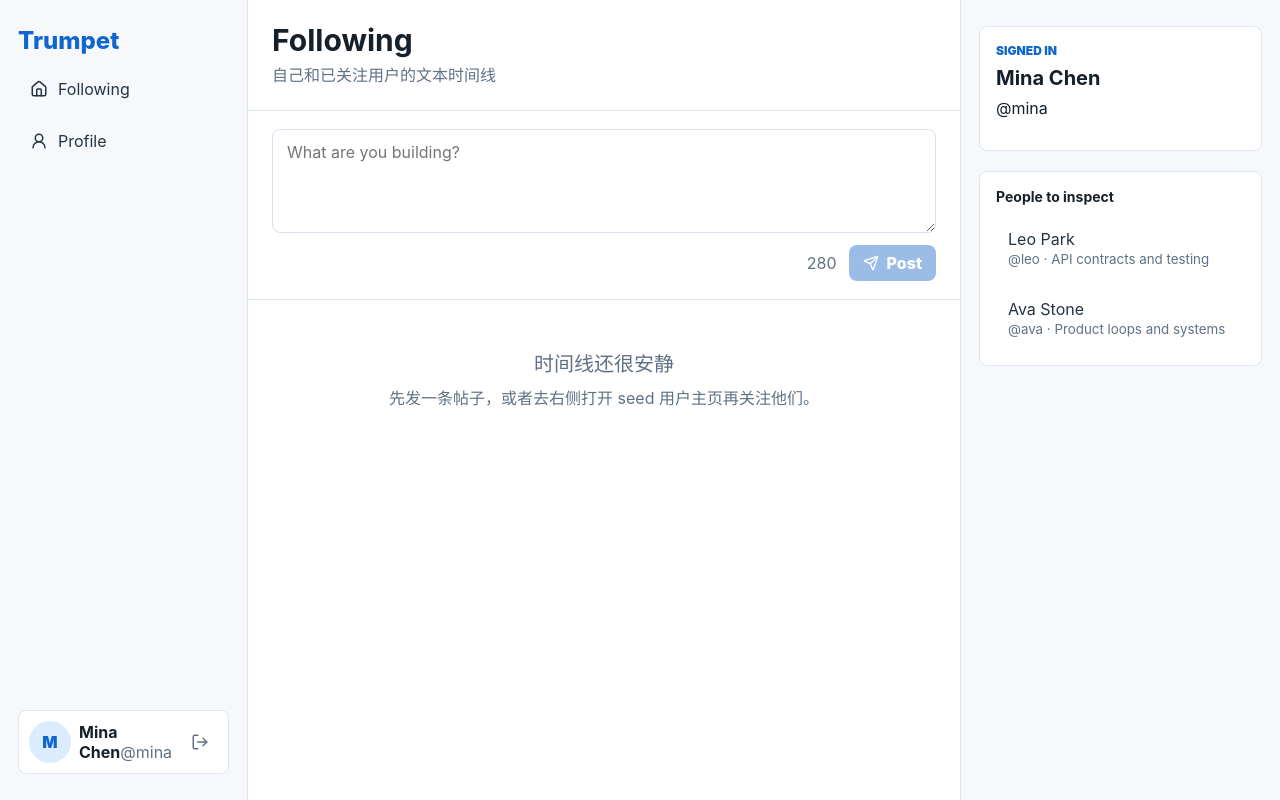
Test: App timeline interactions › surfaces an error banner with the fallback message when a post fails
In the text box with placeholder "What are you building?": (604, 181) [272,129,936,233], type "This post will fail"
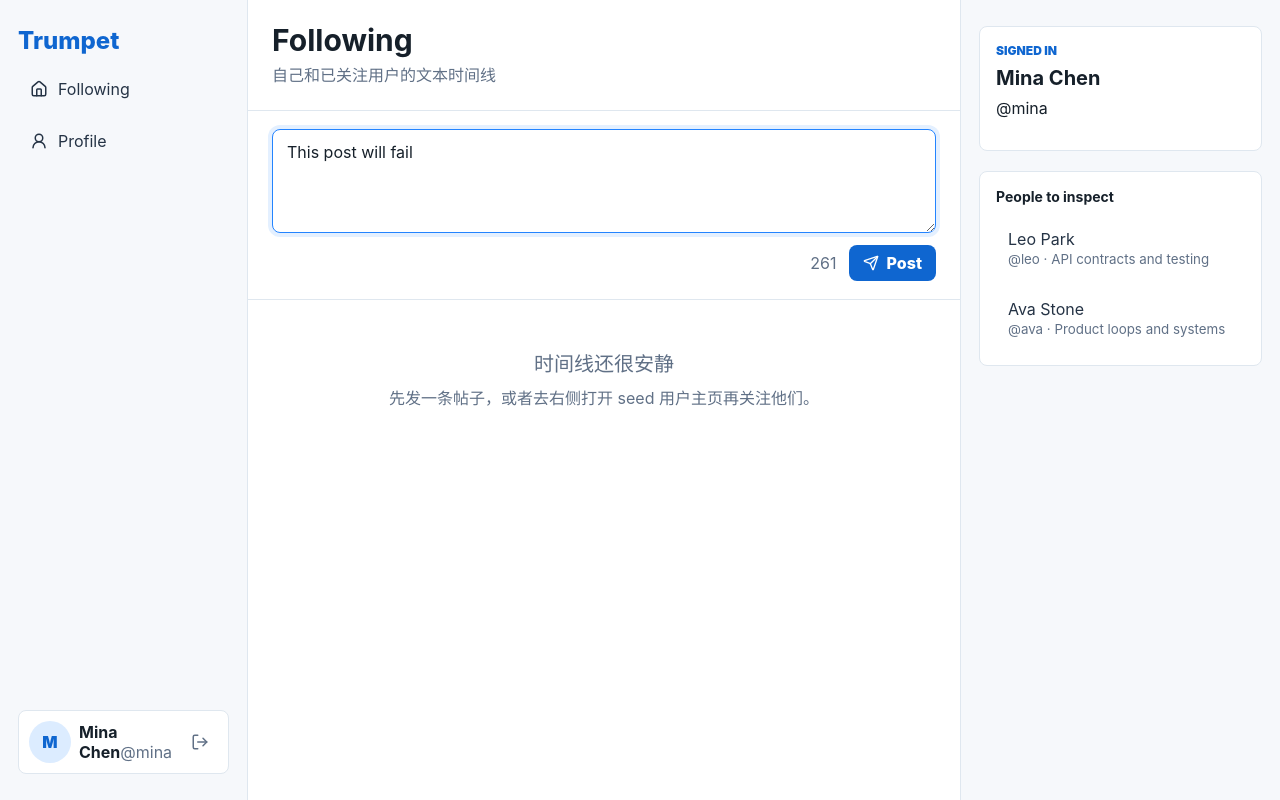
Click the button "Post": (892, 263) [848,245,936,281]
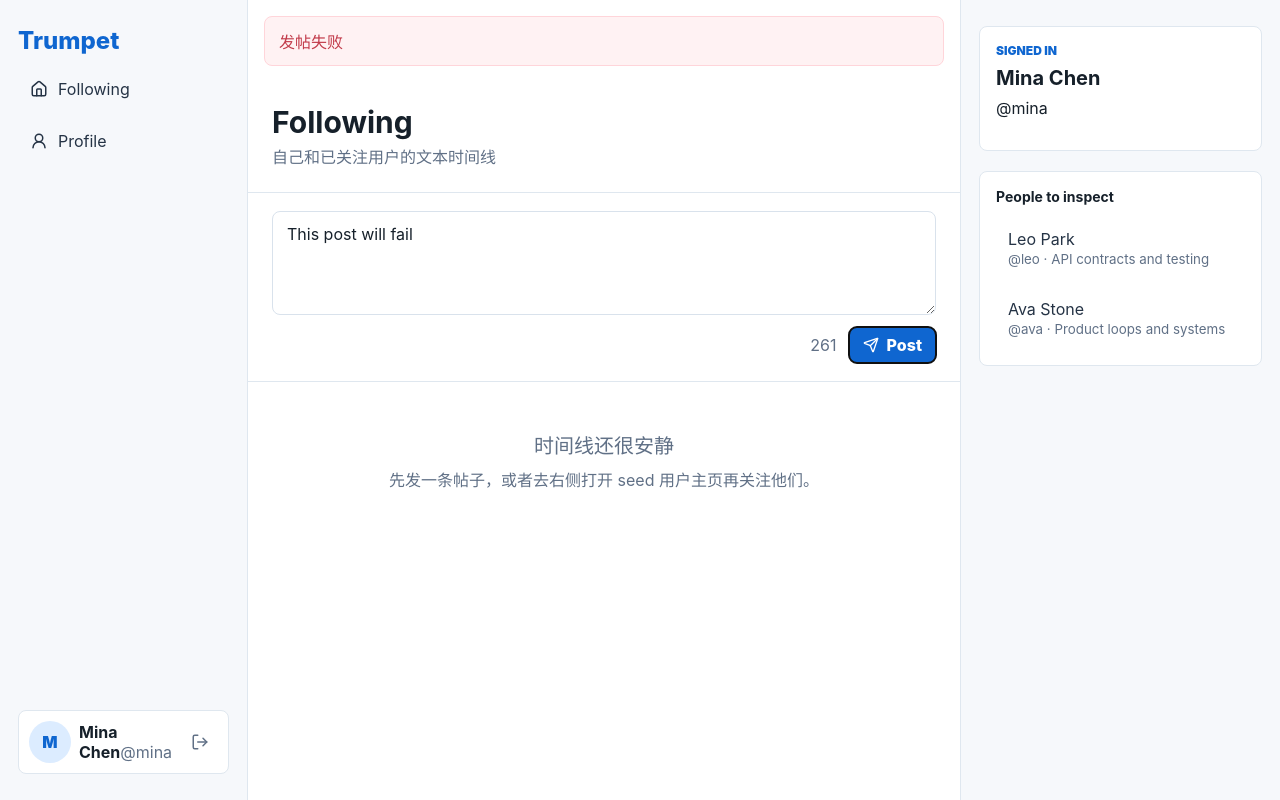
Now the text "发帖失败" is shown, box [264,16,944,66]
